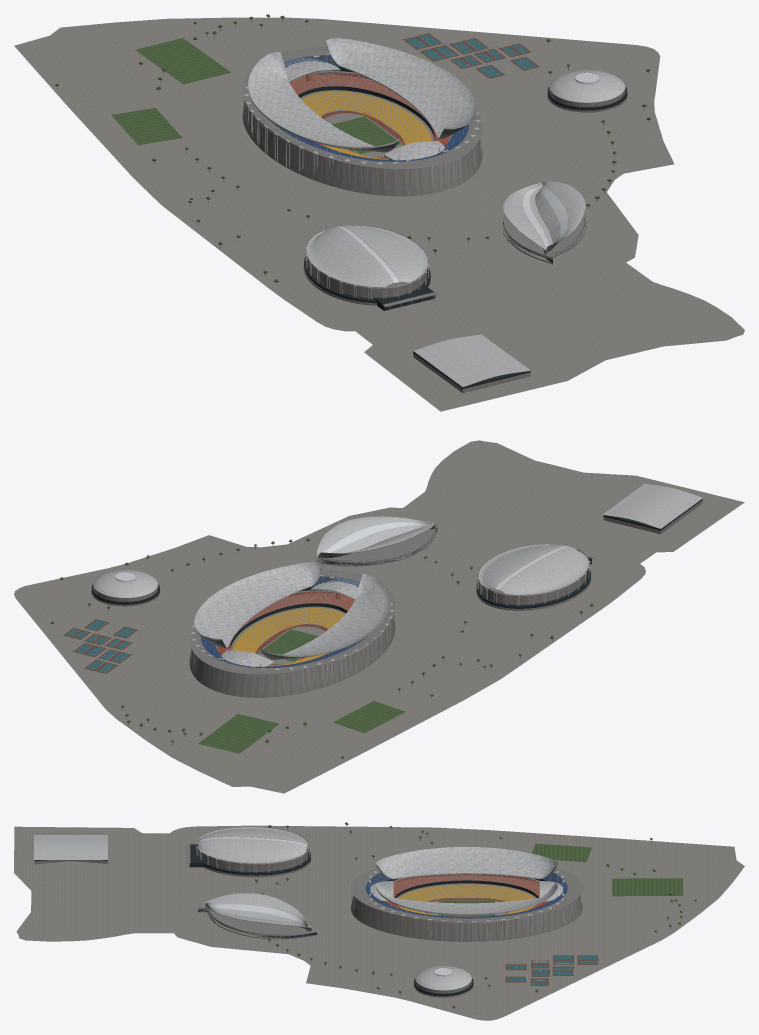
3 views of the same model, one above another, from view 1: azimuth 30°, elevation 25°; view 2: azimuth 150°, elevation 25°; view 3: azimuth 270°, elevation 25° (orthographic). The views are drawn at different scales.
Visible parts, largest first — view 1: GX_Plaza_0, GEO-GX-Bowl, GEO-GX-Roof, GEO-GX-Gym-Roof, GEO-GX-Pool-Roof, GEO-GX-Train-Roof, GEO-GX-Gym-Body, GEO-GX-Courts, GEO-GX-Frame, GX_Lawn_0, GEO-GX-Tennis-Roof, GX_Lawn_1 (+4 smaller); view 2: GX_Plaza_0, GEO-GX-Bowl, GEO-GX-Roof, GEO-GX-Gym-Roof, GEO-GX-Pool-Roof, GEO-GX-Train-Roof, GEO-GX-Courts, GEO-GX-Gym-Body, GEO-GX-Frame, GEO-GX-Pool-Body, GX_Lawn_0, GEO-GX-Tennis-Roof (+4 smaller); view 3: GX_Plaza_0, GEO-GX-Bowl, GEO-GX-Roof, GEO-GX-Gym-Roof, GEO-GX-Pool-Roof, GEO-GX-Train-Roof, GEO-GX-Gym-Body, GEO-GX-Frame, GEO-GX-Pool-Body, GEO-GX-Courts, GX_Lawn_0, GEO-GX-Tennis-Roof (+3 smaller).
Boxes of the visible parts, bbox=[...] form: GX_Plaza_0: bbox=[14, 17, 744, 411]; GEO-GX-Bowl: bbox=[242, 47, 482, 196]; GEO-GX-Roof: bbox=[248, 38, 476, 160]; GEO-GX-Gym-Roof: bbox=[306, 225, 428, 288]; GEO-GX-Pool-Roof: bbox=[503, 181, 585, 259]; GEO-GX-Train-Roof: bbox=[414, 334, 530, 387]; GEO-GX-Gym-Body: bbox=[303, 256, 438, 310]; GEO-GX-Courts: bbox=[402, 32, 539, 78]; GEO-GX-Frame: bbox=[243, 53, 481, 189]; GX_Lawn_0: bbox=[135, 38, 230, 84]; GEO-GX-Tennis-Roof: bbox=[550, 70, 625, 102]; GX_Lawn_1: bbox=[111, 108, 182, 145]; GX_Plaza_0: bbox=[14, 440, 744, 793]; GEO-GX-Bowl: bbox=[189, 569, 395, 697]; GEO-GX-Roof: bbox=[194, 562, 390, 666]; GEO-GX-Gym-Roof: bbox=[478, 544, 589, 596]; GEO-GX-Pool-Roof: bbox=[315, 516, 437, 562]; GEO-GX-Train-Roof: bbox=[602, 483, 702, 528]; GEO-GX-Courts: bbox=[63, 617, 138, 673]; GEO-GX-Gym-Body: bbox=[476, 554, 594, 610]; GEO-GX-Frame: bbox=[191, 574, 394, 692]; GEO-GX-Pool-Body: bbox=[316, 525, 437, 566]; GX_Lawn_0: bbox=[198, 714, 279, 753]; GEO-GX-Tennis-Roof: bbox=[93, 570, 157, 597]; GX_Plaza_0: bbox=[14, 825, 744, 1020]; GEO-GX-Bowl: bbox=[350, 867, 582, 941]; GEO-GX-Roof: bbox=[370, 847, 564, 915]; GEO-GX-Gym-Roof: bbox=[196, 826, 309, 864]; GEO-GX-Pool-Roof: bbox=[198, 893, 317, 935]; GEO-GX-Train-Roof: bbox=[34, 835, 107, 859]; GEO-GX-Gym-Body: bbox=[186, 843, 311, 877]; GEO-GX-Frame: bbox=[351, 870, 580, 941]; GEO-GX-Pool-Body: bbox=[198, 907, 317, 939]; GEO-GX-Courts: bbox=[505, 953, 598, 985]; GX_Lawn_0: bbox=[612, 878, 683, 896]; GEO-GX-Tennis-Roof: bbox=[415, 966, 471, 990].
Bounding box in the file's own units: 859 × 70.3 × 1361.
20 materials, 15 textured.
